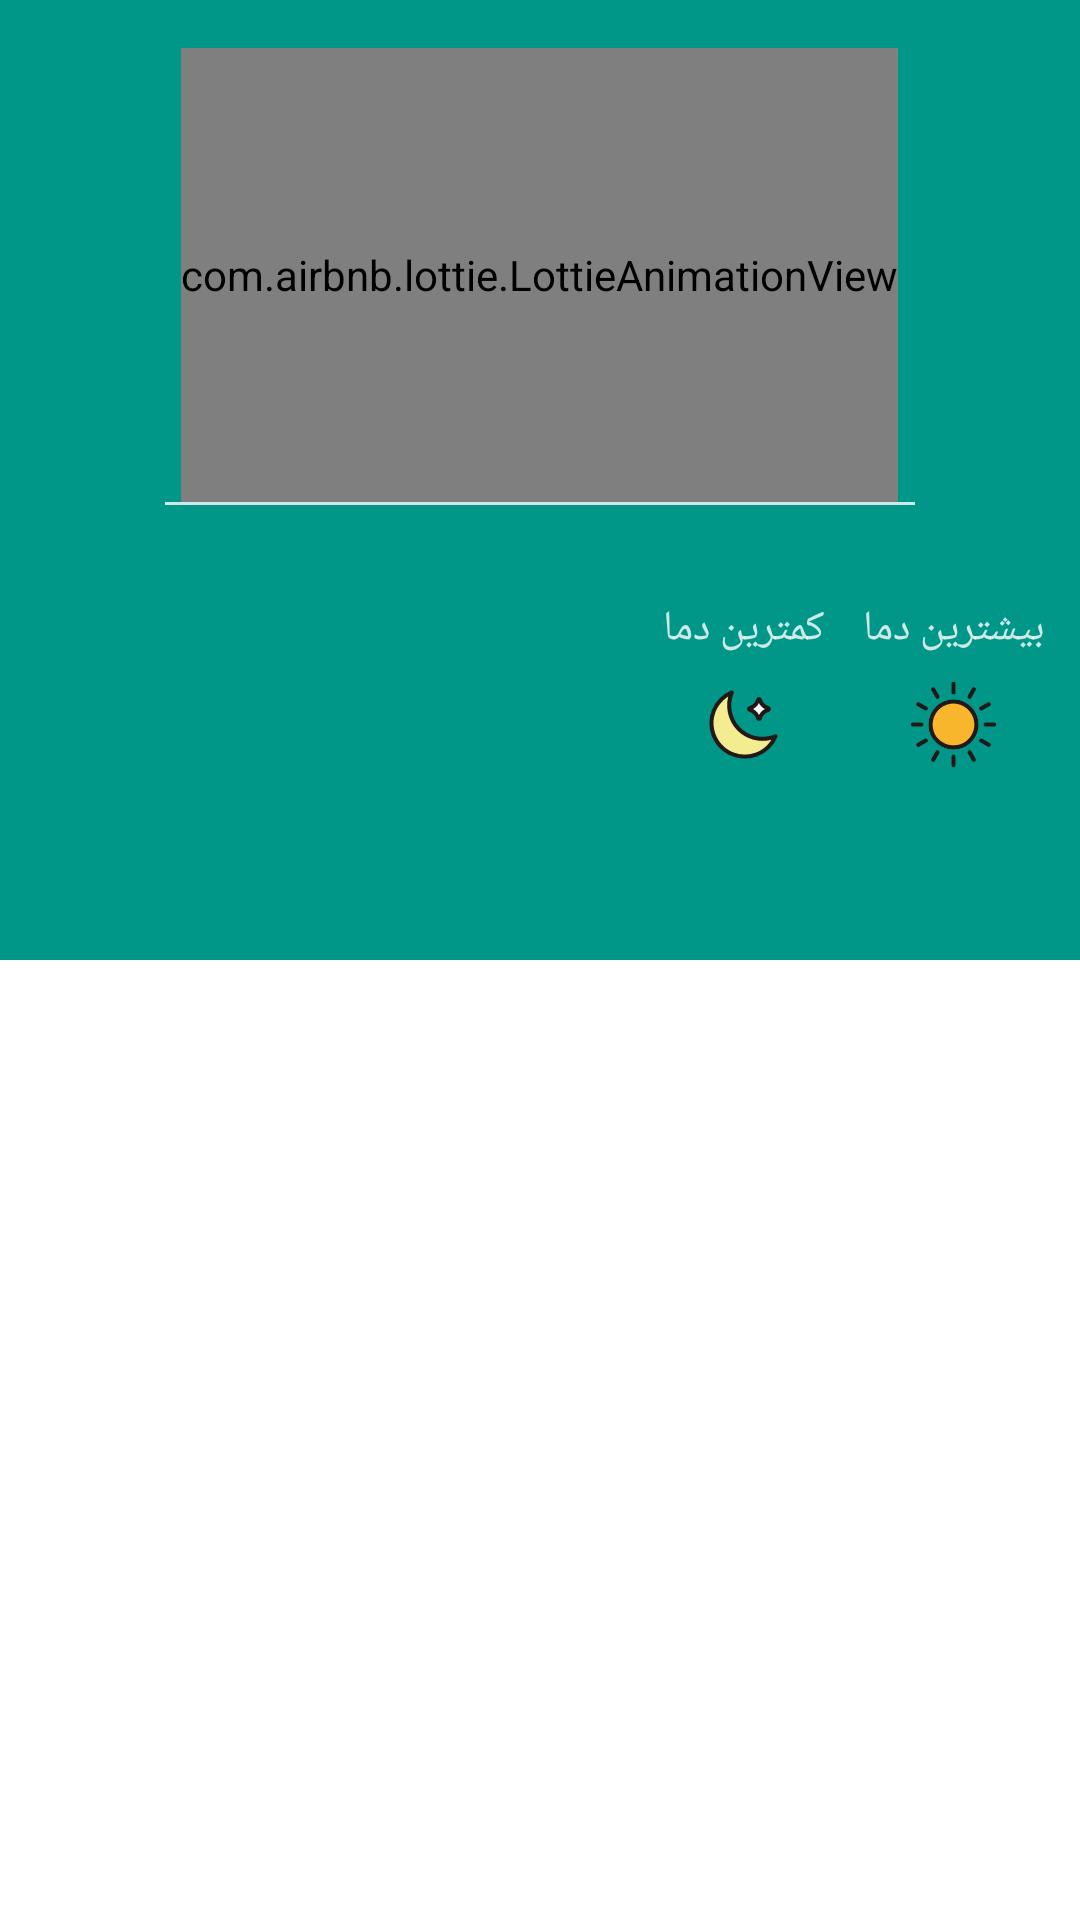

Where icons sit on this 1080px×1920px app screen, as (x1, y1, x2, y2):
moon: (709, 690, 778, 759)
sun: (911, 682, 996, 767)
